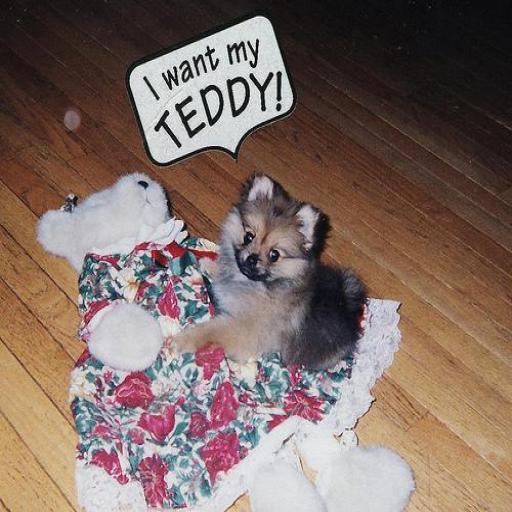dog_face: (228, 182, 318, 292)
